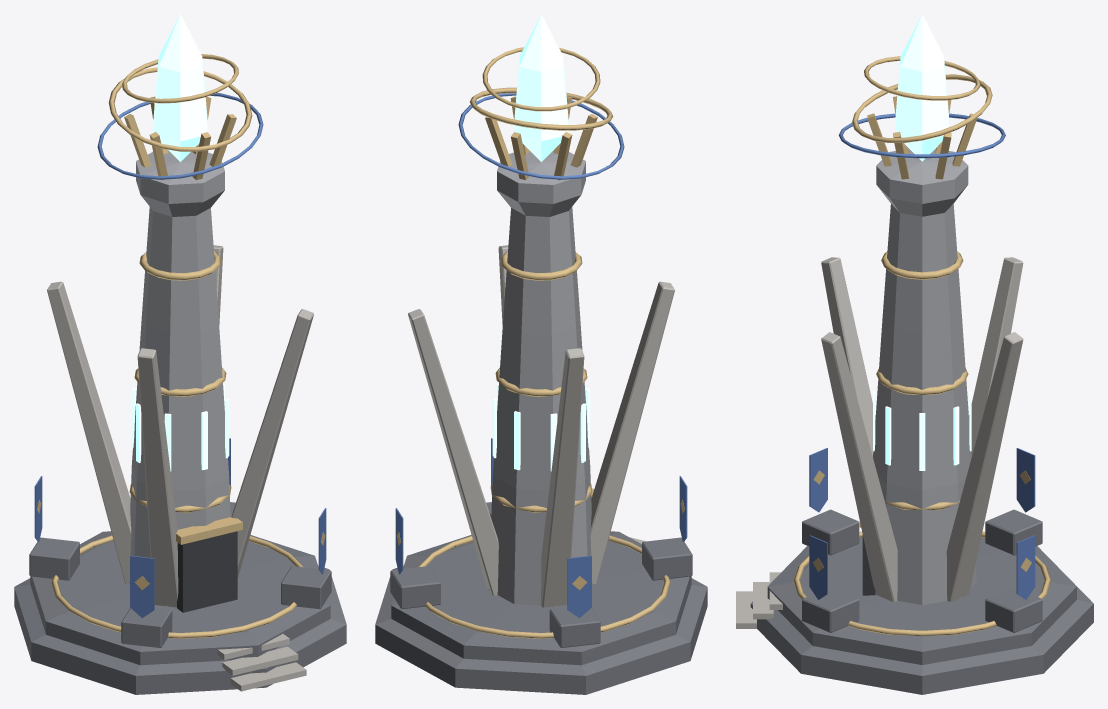
The model's file is judgement.glb.
3 renders of one model, left to right at view 1: azimuth 30°, elevation 25°; view 2: azimuth 150°, elevation 25°; view 3: azimuth 270°, elevation 25°, orthographic.
Visible parts, largest first — view 1: judgement; view 2: judgement; view 3: judgement.
Part boxes in pixels (x1,y1,x2,y2): judgement: [14, 14, 346, 694]; judgement: [375, 14, 707, 694]; judgement: [736, 14, 1093, 694].
Size of the model in its own units: 16.4 by 32.1 by 17.1.
